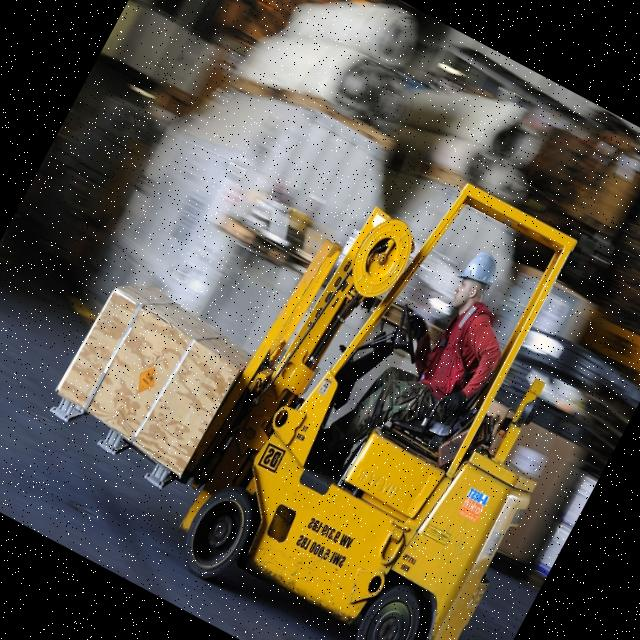Person: (326, 232, 540, 509)
